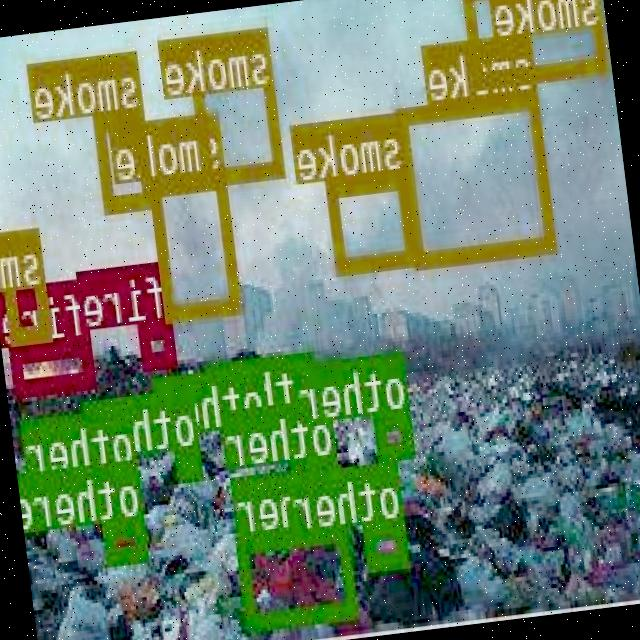fire: (12, 336, 96, 394), (140, 318, 178, 366)
smoke: (398, 90, 559, 264), (188, 25, 287, 184), (150, 168, 244, 319), (462, 0, 610, 86), (327, 170, 419, 271), (95, 107, 157, 208), (0, 225, 53, 340)
